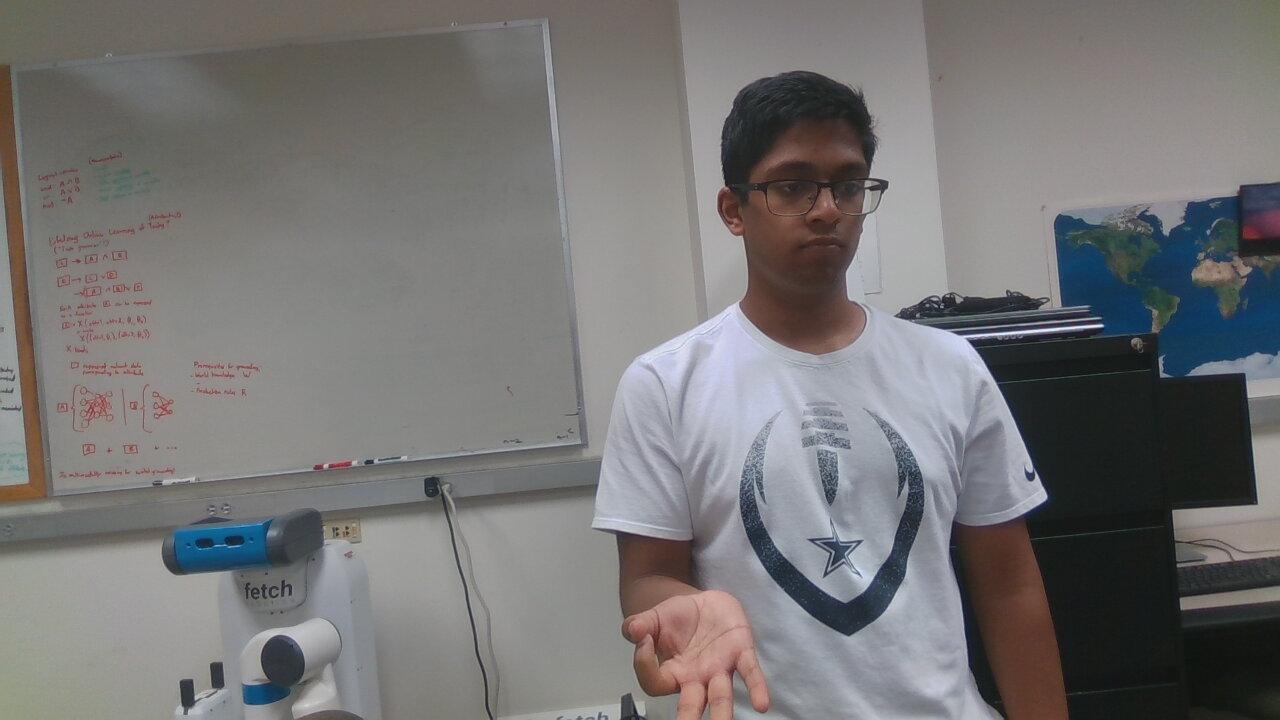hands: (596, 590, 790, 720)
